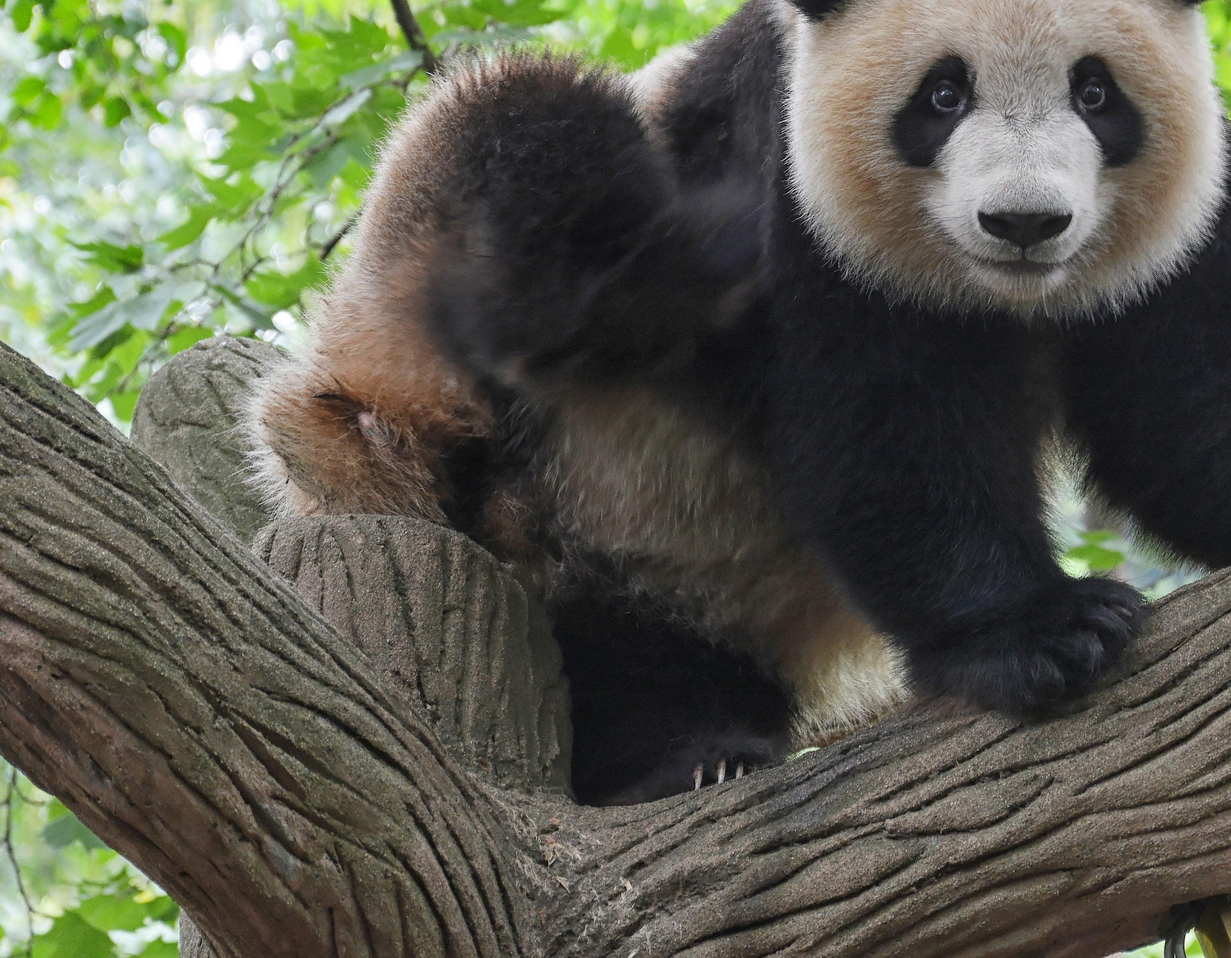panda: (262, 2, 1231, 787)
